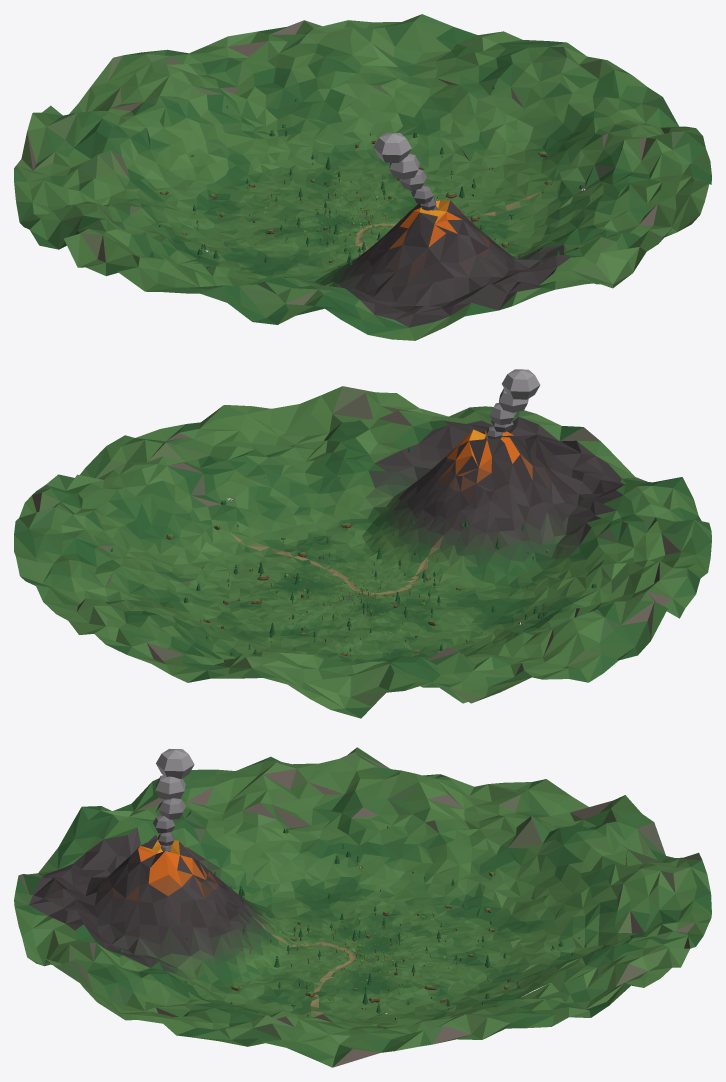
File: world_dinosaurs_lite.glb
3 views of the same model, one above another, from view 1: azimuth 30°, elevation 25°; view 2: azimuth 150°, elevation 25°; view 3: azimuth 270°, elevation 25° (orthographic).
Visible parts, largest first — view 1: Sector5, Sector4, Sector6, Sector1, Sector3, Sector7, Sector0, Sector2; view 2: Sector1, Sector3, Sector2, Sector4, Sector0, Sector7, Sector5, Sector6; view 3: Sector7, Sector0, Sector2, Sector6, Sector1, Sector5, Sector3, Sector4.
Boxes of the visible parts, x1,y1,x2,y2 form: Sector5: (188, 14, 456, 222); Sector4: (363, 27, 662, 222); Sector6: (27, 49, 362, 223); Sector1: (267, 132, 540, 340); Sector3: (363, 97, 711, 240); Sector7: (14, 127, 361, 253); Sector0: (64, 221, 362, 324); Sector2: (363, 213, 699, 295); Sector1: (363, 369, 698, 597); Sector3: (58, 405, 362, 597); Sector2: (272, 386, 535, 596); Sector4: (14, 474, 361, 612); Sector0: (363, 510, 711, 625); Sector7: (363, 597, 667, 703); Sector5: (26, 581, 362, 682); Sector6: (188, 597, 440, 718); Sector7: (351, 747, 612, 954); Sector0: (113, 747, 368, 954); Sector2: (14, 863, 362, 1023); Sector6: (363, 795, 711, 956); Sector1: (14, 748, 362, 956); Sector5: (364, 900, 711, 1010); Sector3: (119, 953, 380, 1067); Sector4: (361, 955, 608, 1052).
Size of the model in its own units: 1320 by 365 by 1320.
